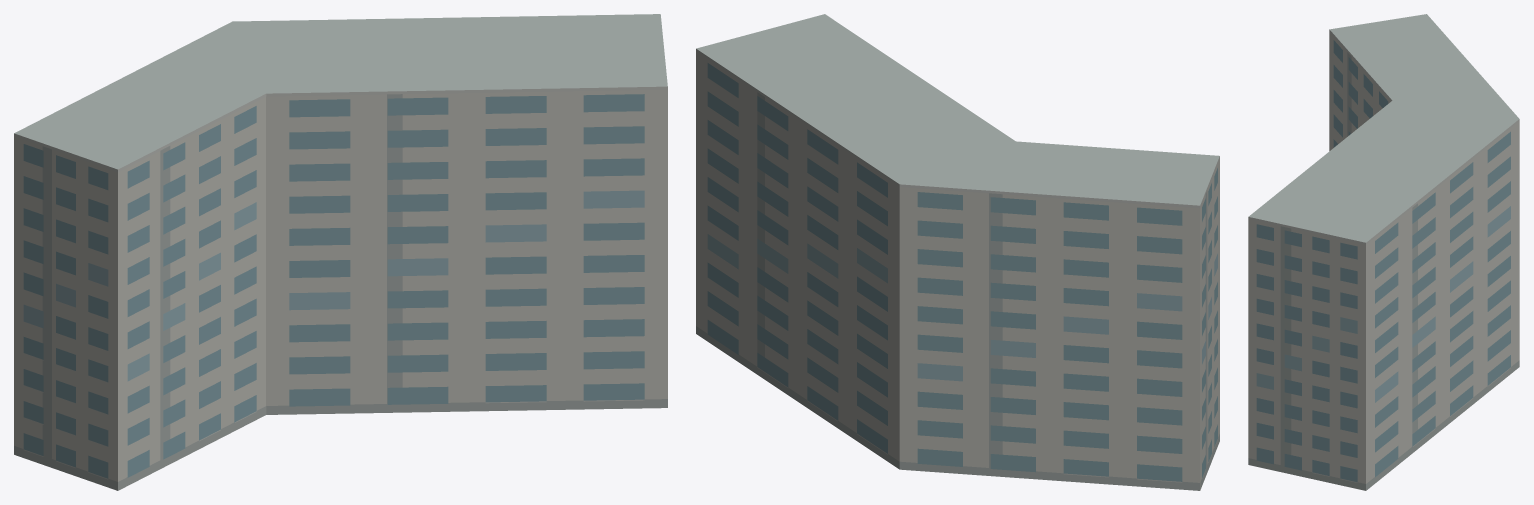
File: residential-c2c0957b-a9ae-4bbb-b477-4ad9a69bca08.glb
3 views of the same model, side by side, from view 1: azimuth 30°, elevation 25°; view 2: azimuth 150°, elevation 25°; view 3: azimuth 270°, elevation 25° (orthographic). The views are drawn at different scales.
Visible parts, largest first — view 1: residential-c2c0957b-a9ae-4bbb-b477-4ad9a69bca08.tmp; view 2: residential-c2c0957b-a9ae-4bbb-b477-4ad9a69bca08.tmp; view 3: residential-c2c0957b-a9ae-4bbb-b477-4ad9a69bca08.tmp.
Part boxes in pixels (x1,y1,x2,y2): residential-c2c0957b-a9ae-4bbb-b477-4ad9a69bca08.tmp: [14, 14, 667, 490]; residential-c2c0957b-a9ae-4bbb-b477-4ad9a69bca08.tmp: [696, 14, 1219, 490]; residential-c2c0957b-a9ae-4bbb-b477-4ad9a69bca08.tmp: [1248, 14, 1519, 490].
Size of the model in its own units: 53.4 by 27 by 26.75.
